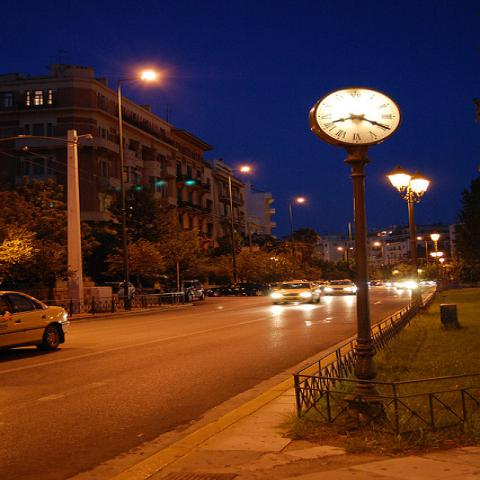car: (2, 286, 70, 352), (273, 280, 322, 304), (205, 282, 274, 298), (162, 279, 205, 301), (324, 279, 357, 296), (395, 279, 412, 290), (269, 283, 280, 293), (370, 280, 382, 286), (385, 281, 395, 287)
